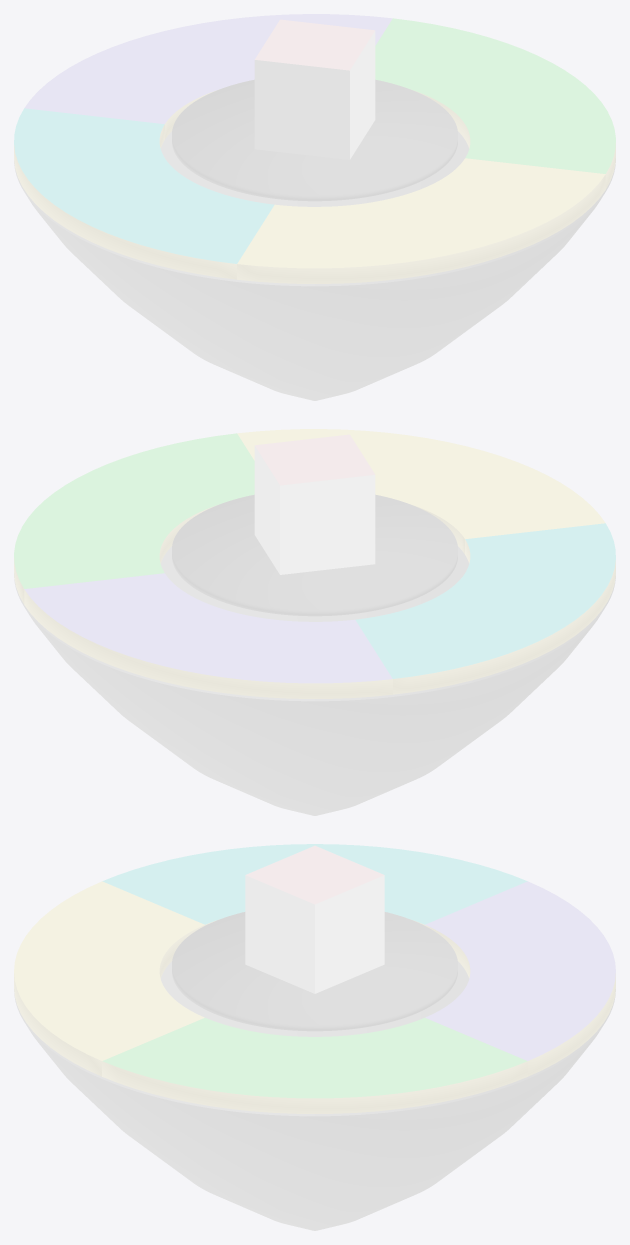
Rendered from pastel_platform.glb.
3 views of the same model, one above another, from view 1: azimuth 30°, elevation 25°; view 2: azimuth 150°, elevation 25°; view 3: azimuth 270°, elevation 25° (orthographic).
Visible parts, largest first — view 1: LowerBody, FrontYellow, LeftCyan, RightGreen, CenterDisk, BackLavender, CenterCube; view 2: LowerBody, BackLavender, LeftCyan, RightGreen, CenterDisk, FrontYellow, CenterCube; view 3: LowerBody, RightGreen, BackLavender, FrontYellow, CenterDisk, CenterCube, LeftCyan.
Boxes of the visible parts, bbox=[...] form: LowerBody: bbox=[14, 131, 615, 400]; FrontYellow: bbox=[237, 158, 605, 283]; LeftCyan: bbox=[14, 108, 274, 279]; RightGreen: bbox=[375, 18, 615, 189]; CenterDisk: bbox=[172, 79, 457, 201]; BackLavender: bbox=[24, 14, 392, 138]; CenterCube: bbox=[254, 19, 375, 159]; LowerBody: bbox=[14, 546, 615, 815]; BackLavender: bbox=[24, 573, 392, 698]; LeftCyan: bbox=[355, 523, 615, 694]; RightGreen: bbox=[14, 433, 254, 604]; CenterDisk: bbox=[172, 494, 457, 616]; FrontYellow: bbox=[237, 429, 605, 553]; CenterCube: bbox=[254, 434, 375, 574]; LowerBody: bbox=[14, 961, 615, 1230]; RightGreen: bbox=[102, 1018, 527, 1113]; BackLavender: bbox=[425, 881, 615, 1076]; FrontYellow: bbox=[14, 881, 204, 1076]; CenterDisk: bbox=[172, 912, 457, 1031]; CenterCube: bbox=[245, 845, 384, 993]; LeftCyan: bbox=[102, 844, 527, 925].
Size of the model in its own units: 12.2 by 7.92 by 12.2.
